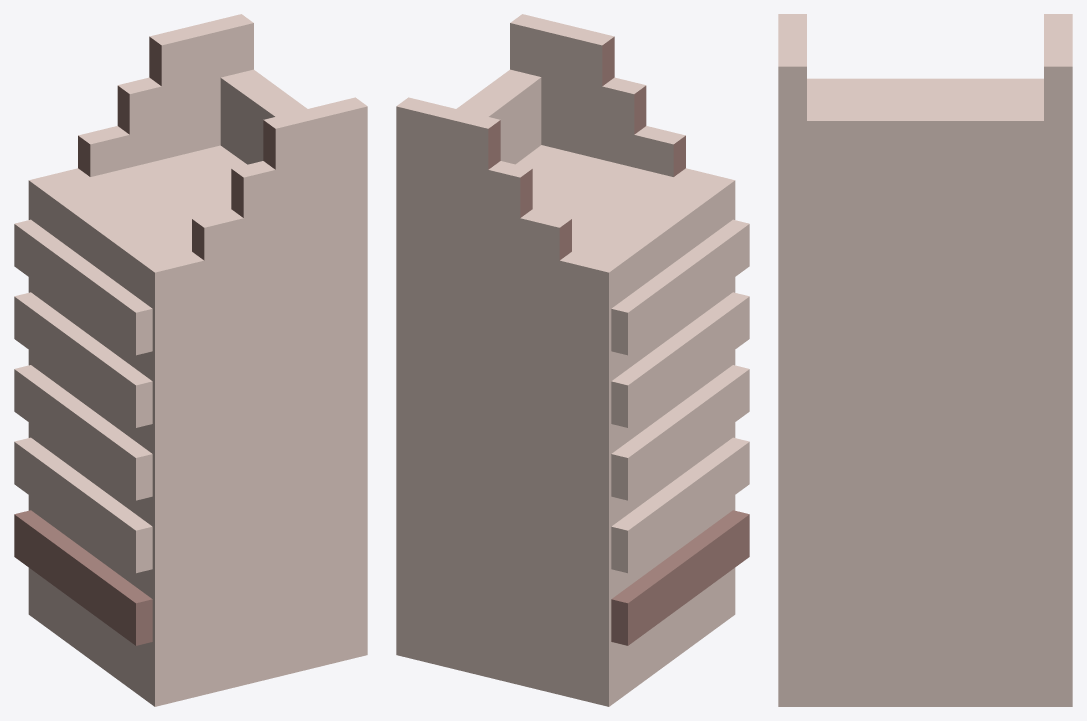
The model's file is Edificio015.FBX.
The picture shows the model from 3 angles, left to right: view 1: azimuth 30°, elevation 25°; view 2: azimuth 150°, elevation 25°; view 3: azimuth 270°, elevation 25°; orthographic projection. The views are drawn at different scales.
Parts seen in each view (by area): view 1: Edificio015; view 2: Edificio015; view 3: Edificio015.
Boxes of the visible parts, x1,y1,x2,y2 form: Edificio015: (14,14,367,706); Edificio015: (396,14,749,706); Edificio015: (778,14,1072,706).
Bounding box in the file's own units: 632 × 1442 × 601.
